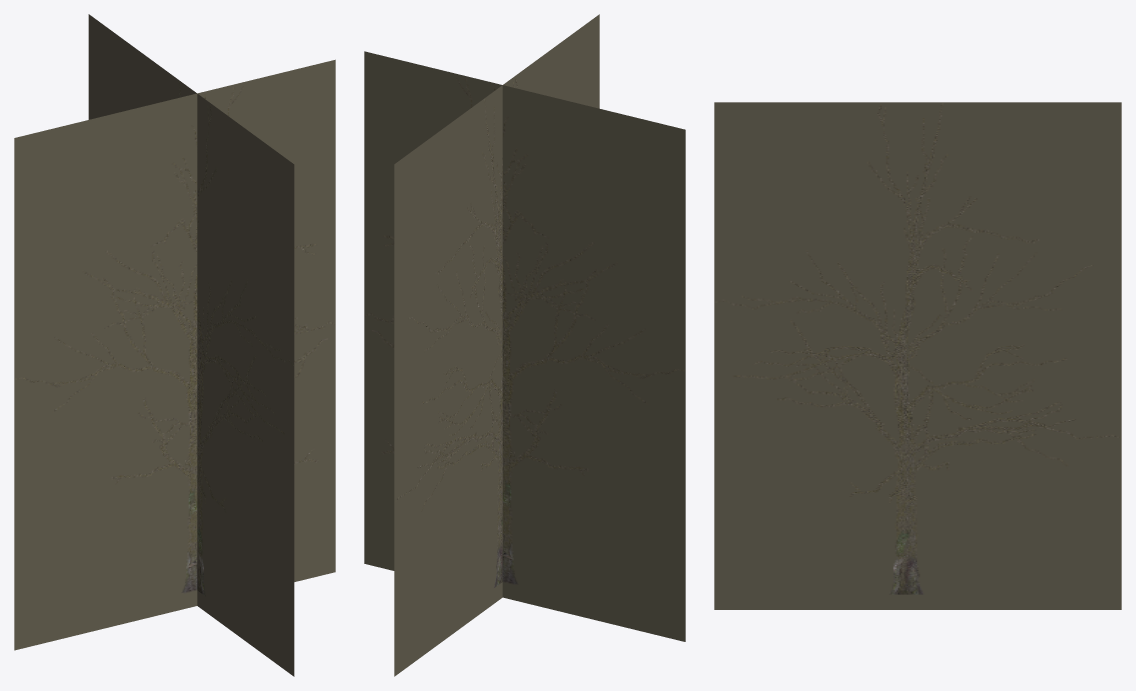
Rendered from GenericDead.glb.
The picture shows the model from 3 angles, left to right: view 1: azimuth 30°, elevation 25°; view 2: azimuth 150°, elevation 25°; view 3: azimuth 270°, elevation 25°; orthographic projection.
Parts seen in each view (by area): view 1: mesh__mat_billboard_2; view 2: mesh__mat_billboard_2; view 3: mesh__mat_billboard_2.
Boxes of the visible parts, x1,y1,x2,y2 form: mesh__mat_billboard_2: [14, 14, 335, 676]; mesh__mat_billboard_2: [364, 14, 685, 676]; mesh__mat_billboard_2: [714, 102, 1121, 609].
Size of the model in its own units: 15.11 by 23.01 by 16.73.
Materials: 1 (1 with a texture image).
